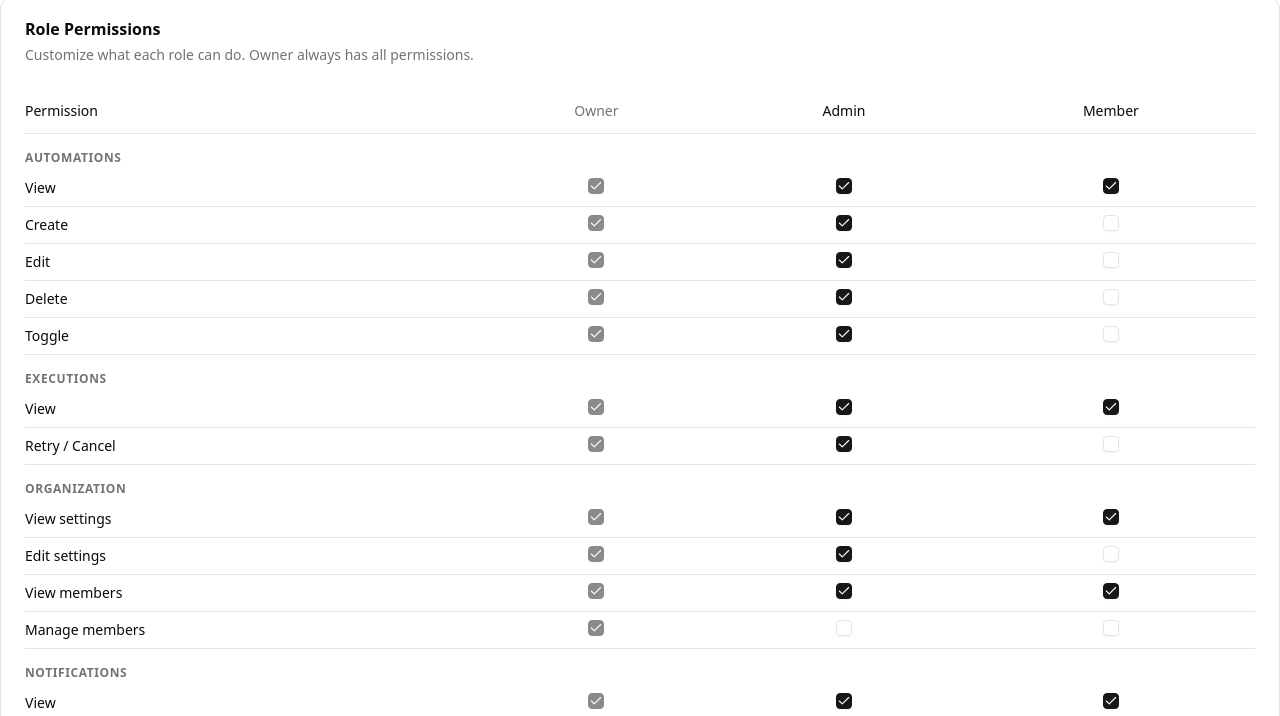
PermissionsTable › should enable save button when a checkbox is toggled
The width and height of the screenshot is (1280, 716).
Expected: the text "Role Permissions" is shown, [25,18,160,40]
Click the checkbox named "Member: Automations Create": (1111, 223) [1103,215,1119,231]
(page scrolled)
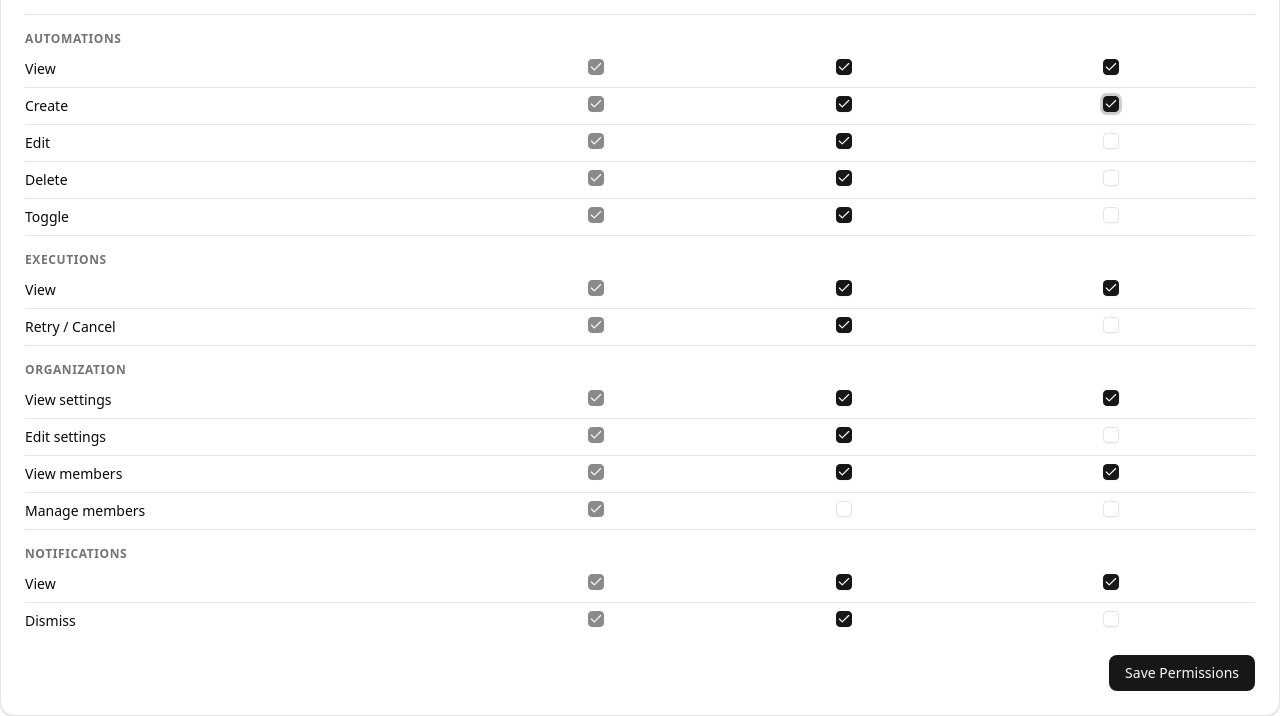
Result: the button "Save Permissions" is enabled at [1109,655,1255,691]
